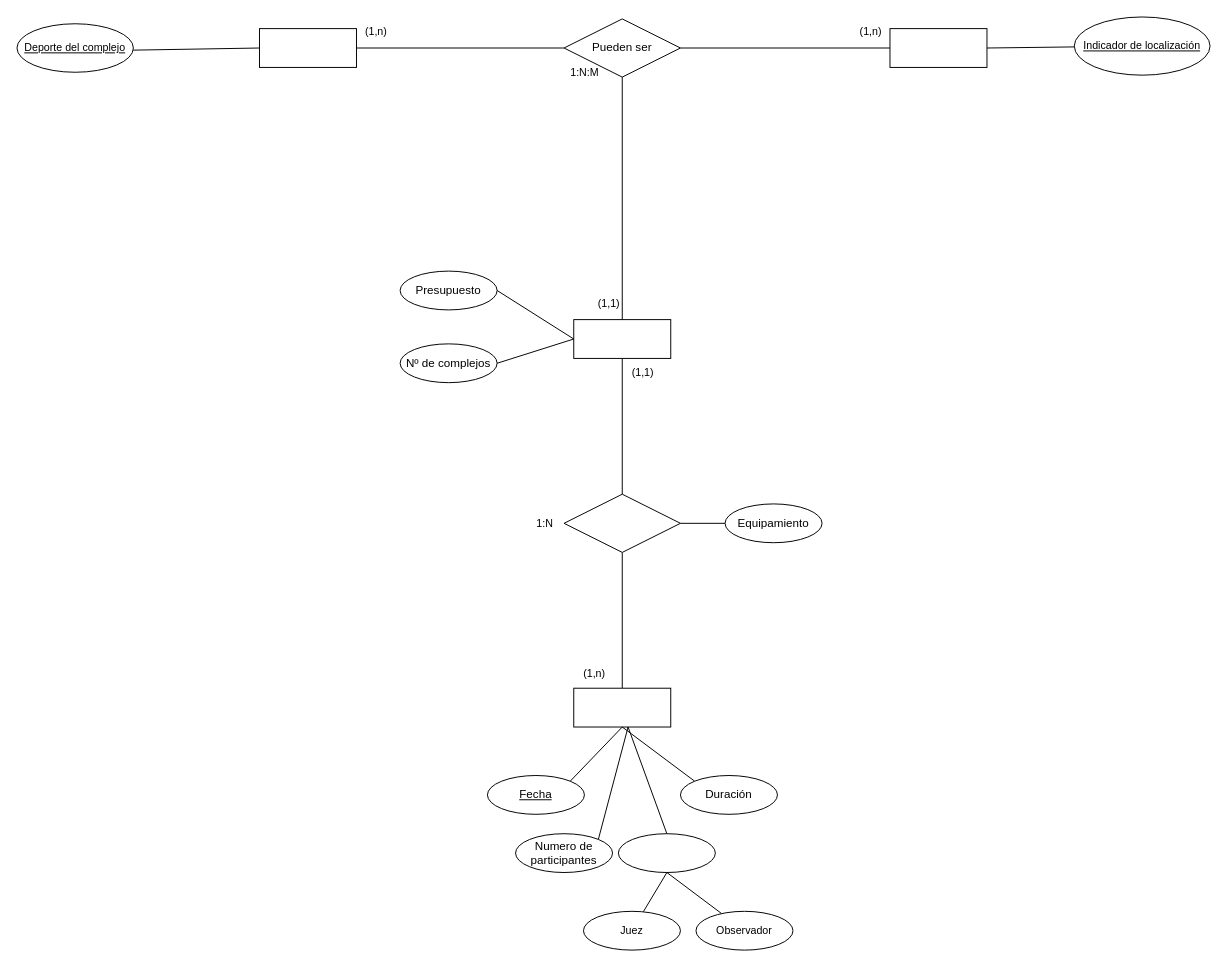
The diagram is 1227 pixels wide and 967 high, and some of its shapes have lost their labels. The shapes that lost their labels are listed below. From the top down, each one's centre as x and y in pixels, then its label:
At [307,47]: "Deporte único".
At [938,47]: "Polideportivo".
At [622,338]: "Complejos Deportivos".
At [621,522]: "Celebrar".
At [622,707]: "Eventos".
At [666,853]: "Nº comisarios".
